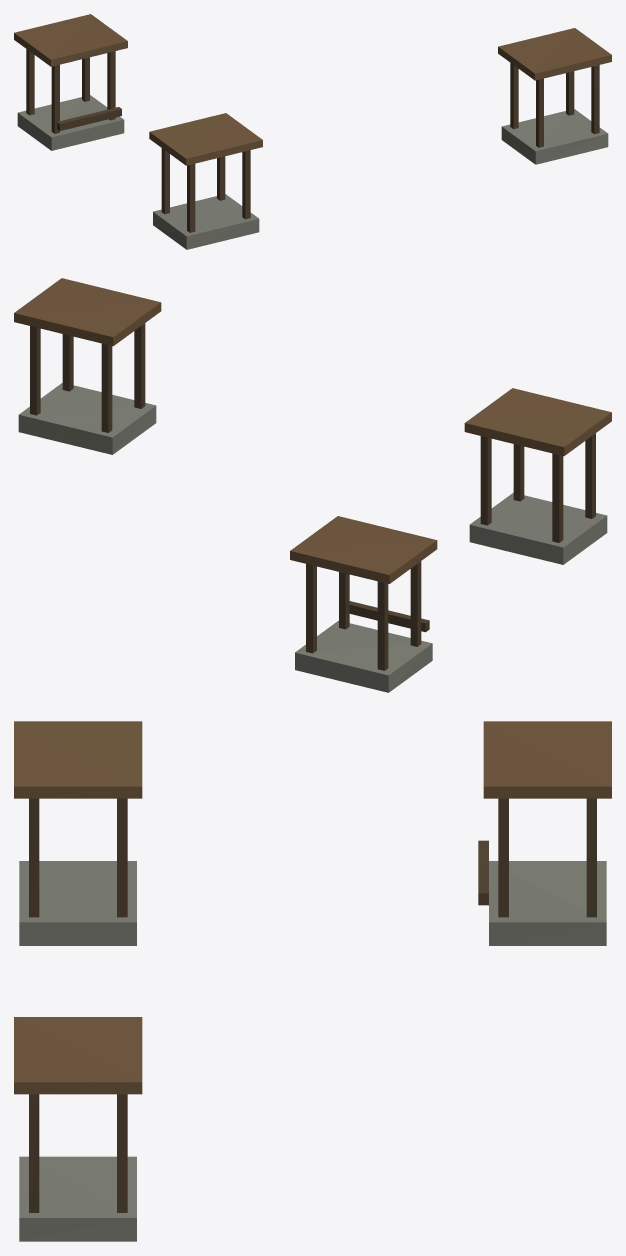
Rendered from SUP-04-4.glb.
The picture shows the model from 3 angles, top to bottom: view 1: azimuth 30°, elevation 25°; view 2: azimuth 150°, elevation 25°; view 3: azimuth 270°, elevation 25°; orthographic projection. The views are drawn at different scales.
Parts seen in each view (by area): view 1: city-details/SUP-04-4; view 2: city-details/SUP-04-4; view 3: city-details/SUP-04-4.
Boxes of the visible parts, x1,y1,x2,y2 form: city-details/SUP-04-4: (14,14,611,249); city-details/SUP-04-4: (14,278,611,692); city-details/SUP-04-4: (14,721,611,1241).
Size of the model in its own units: 8.91 by 1.87 by 6.24.
